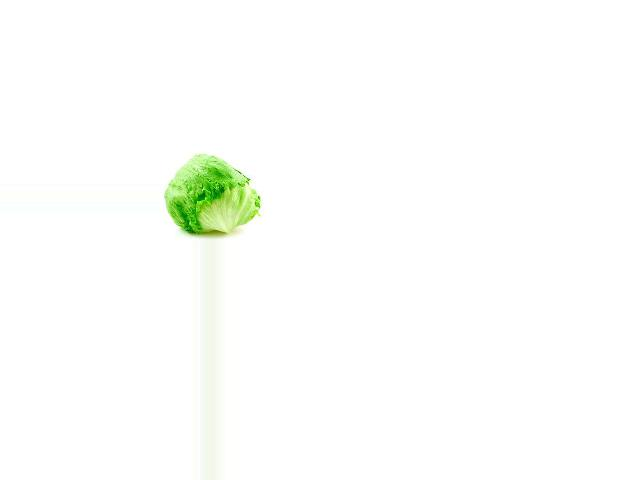lettuce: (161, 151, 260, 234)
